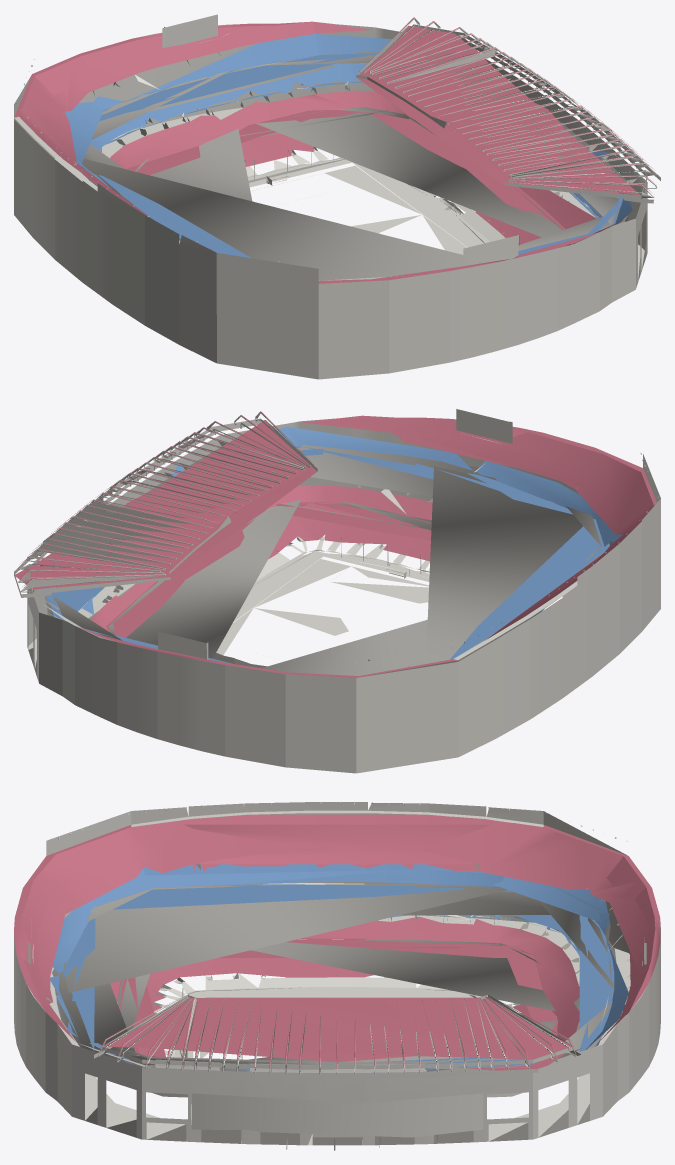
File: camp-nou-v2.glb
3 views of the same model, one above another, from view 1: azimuth 30°, elevation 25°; view 2: azimuth 150°, elevation 25°; view 3: azimuth 270°, elevation 25° (orthographic).
Visible parts, largest first — view 1: Mesh_0_default_face_material_0, Mesh_0_<DarkGray>_0; view 2: Mesh_0_default_face_material_0; view 3: Mesh_0_default_face_material_0, Mesh_0_<DarkGray>_0.
Part boxes in pixels (<box>): Mesh_0_default_face_material_0: <box>14,14,660,379</box>; Mesh_0_<DarkGray>_0: <box>16,59,646,282</box>; Mesh_0_default_face_material_0: <box>14,409,660,773</box>; Mesh_0_default_face_material_0: <box>14,802,660,1150</box>; Mesh_0_<DarkGray>_0: <box>47,802,616,1145</box>.
Size of the model in its own units: 217 by 49.39 by 249.
